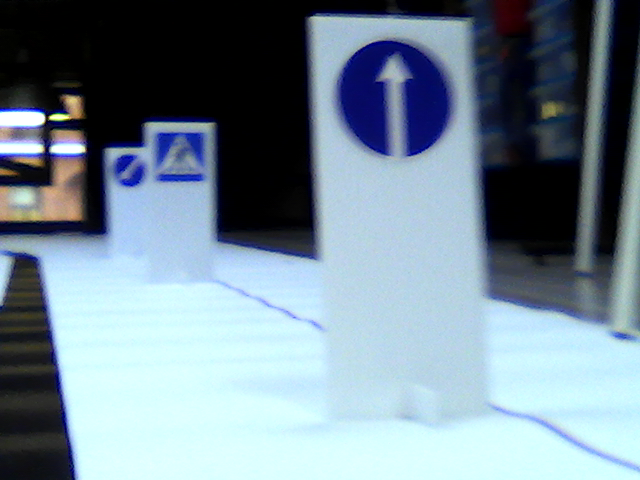forw: (337, 34, 453, 156)
pesh: (153, 128, 208, 182)
prep: (113, 154, 146, 184)
